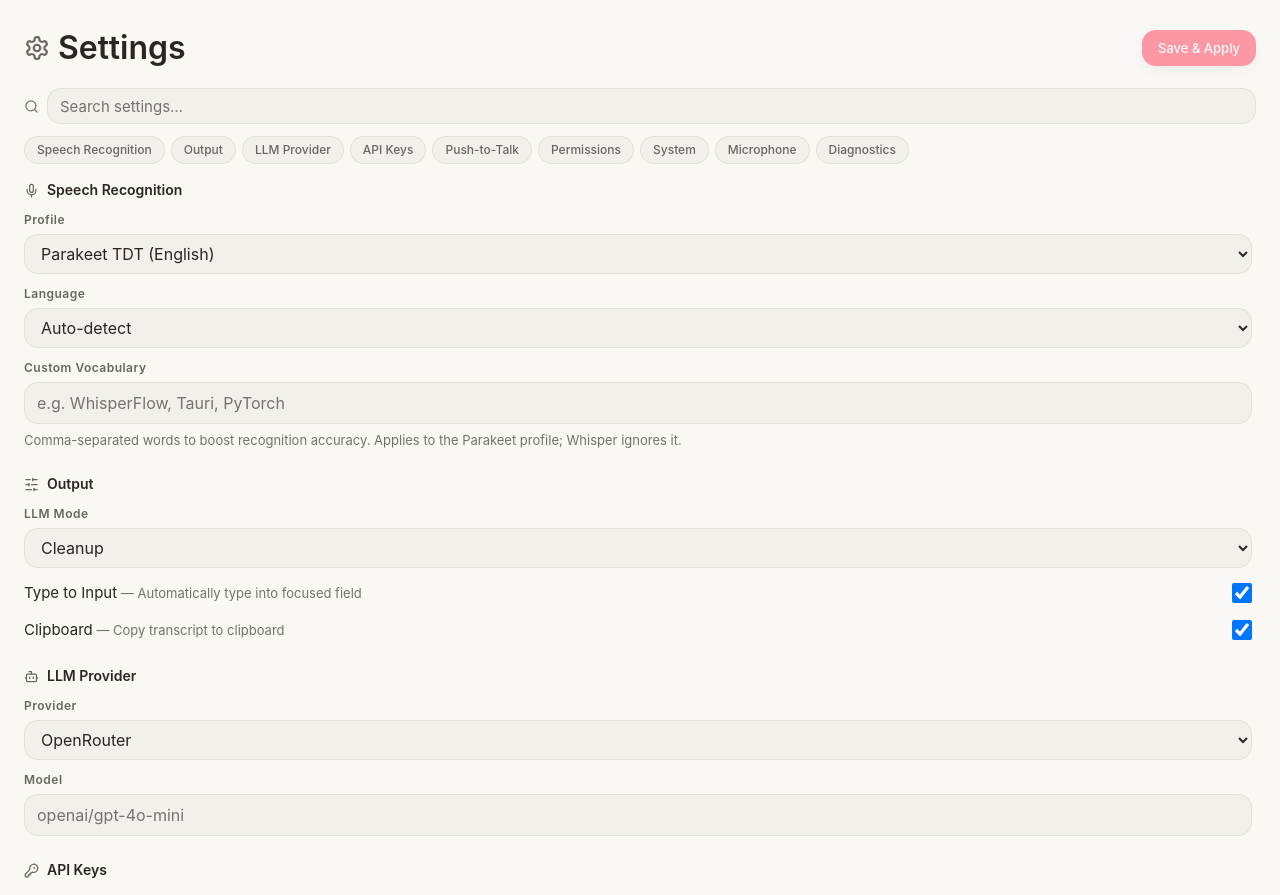
Test: SettingsPanel › disables Save until something changes, then offers Discard
Expected: the button "Save & Apply" is disabled, [1142,30,1256,66]
Expected: the button "discard" is not shown
Select "German" in the dropdown labelled "Language" at (638, 328), box [24,308,1252,348]
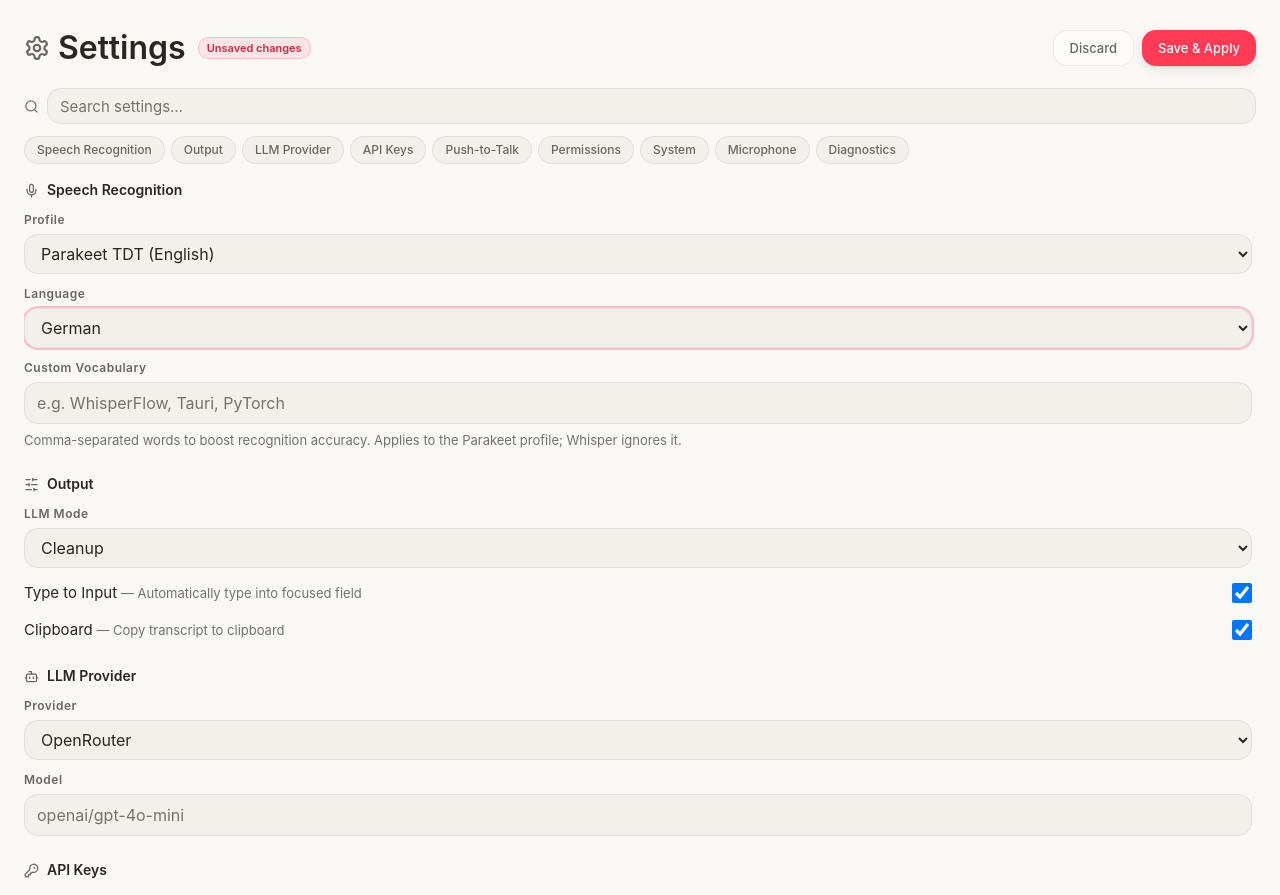
Expected: the button "Save & Apply" is enabled, [1142,30,1256,66]
Expected: the button "Discard" is shown, [1052,30,1134,66]
Expected: the text "Unsaved changes" is shown, [198,37,311,59]
